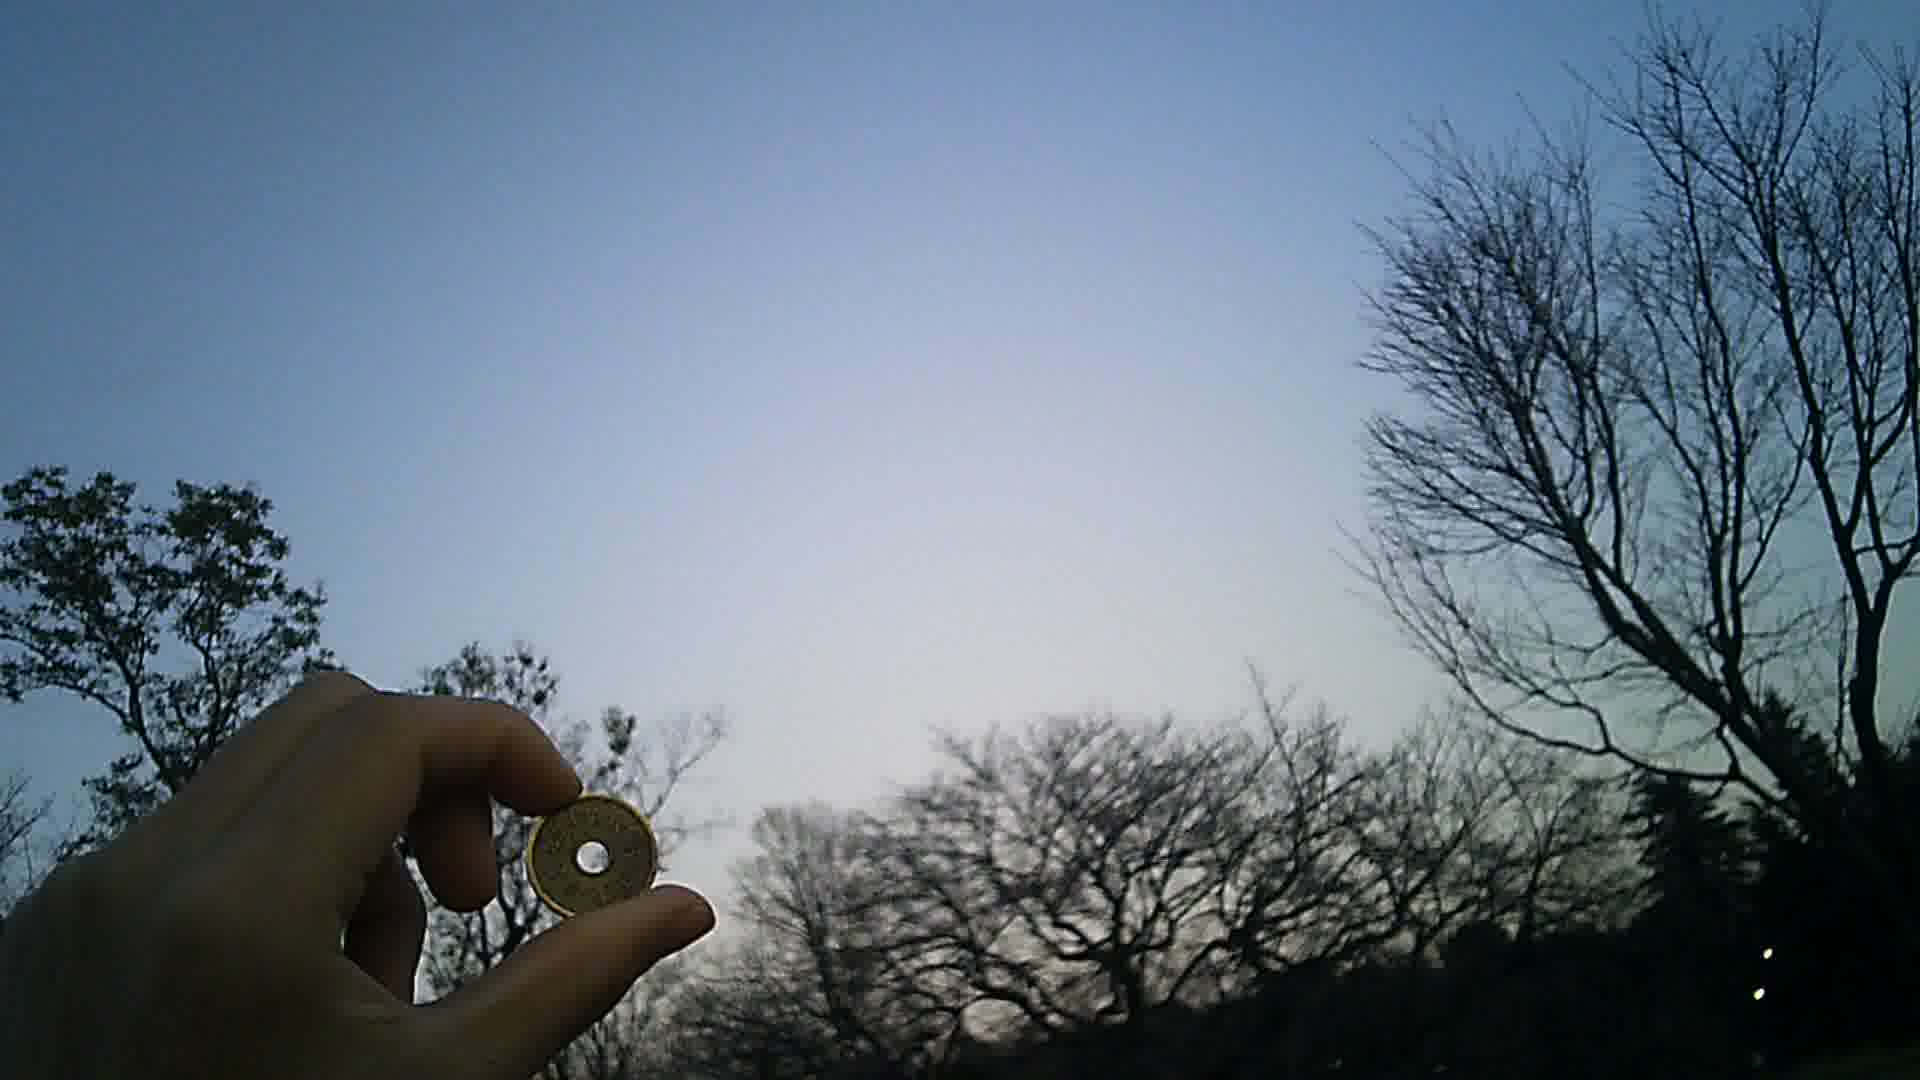5 Yen: (527, 785, 657, 914)
